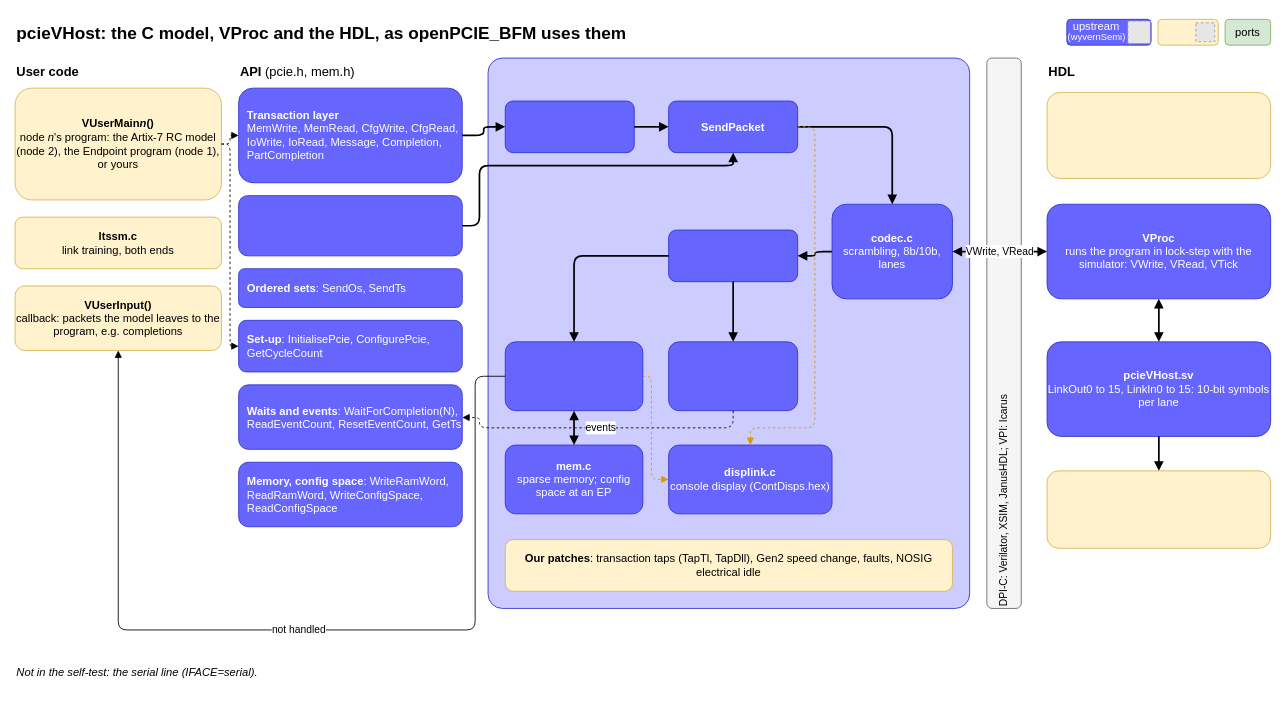
Image size: 1286x726. Some labels were removed from this diagram. Grey dashed boxes stand in for pictures. Here are the shapes that lost their labels. From the top down, the box of each, then its label:
(1157, 18, 1218, 45): Chili
(504, 100, 634, 153): Send queue TLPs, DLLPs
(1046, 92, 1271, 178): VProc patch : coroutines, about 22 times faster than a thread per node
(238, 195, 462, 256): Data Link layer SendAck, SendNak, SendFC, SendPM, SendVendor, SendIdle
(668, 229, 798, 282): ExtractPhyInput from the lanes
(487, 57, 970, 608): pcieVHost C model: pcie.c, pcie_utils.c, codec.c, mem.c, displink.c
(504, 341, 643, 411): ProcessInput TLPs, DLLPs; auto completions, Ack/Nak
(668, 341, 798, 411): ProcessOs ordered sets, event counts
(1046, 470, 1271, 548): Tap ports TlpTx*, TlpRx*, DllpTx*, DllpRx*: one DW a clock
